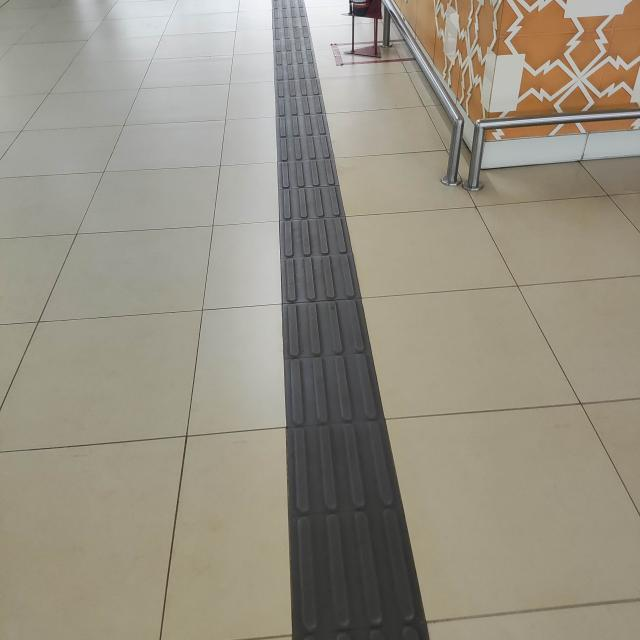lurus: (260, 0, 407, 640)
